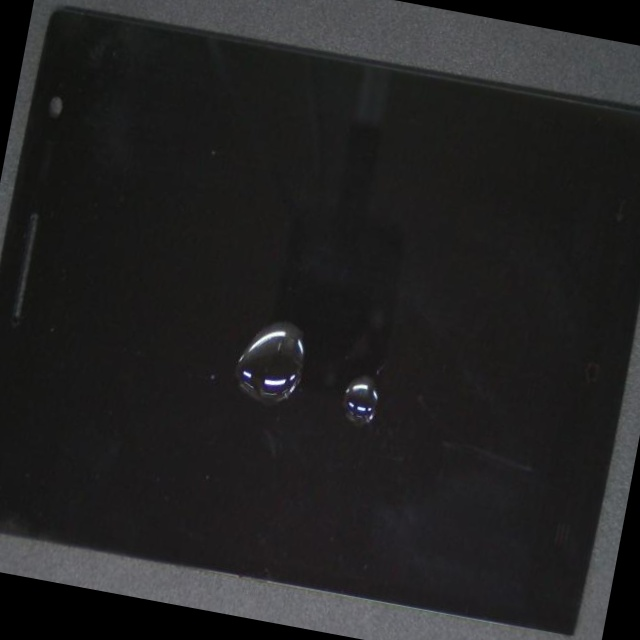oil: (155, 167, 618, 611), (124, 170, 488, 550)
